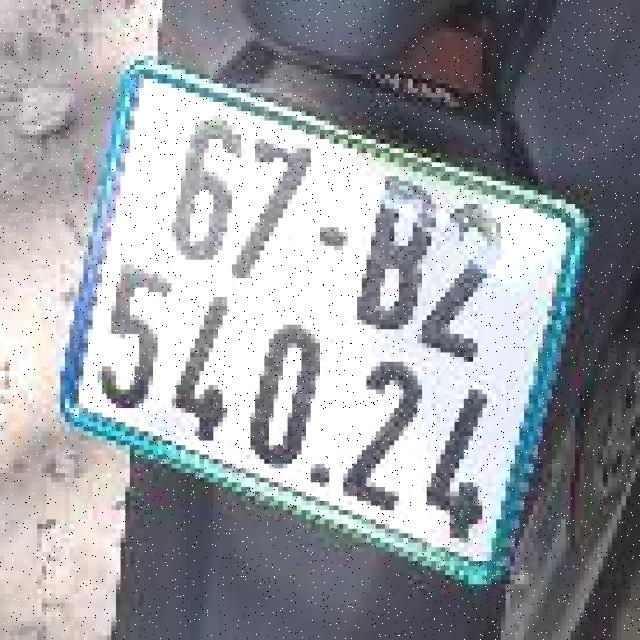0: (239, 315, 333, 480)
2: (410, 197, 521, 375), (332, 349, 436, 524)
4: (412, 375, 512, 553), (162, 281, 254, 451)
5: (86, 256, 181, 424)
6: (160, 110, 255, 275)
7: (222, 128, 320, 297)
B: (347, 168, 446, 344)
